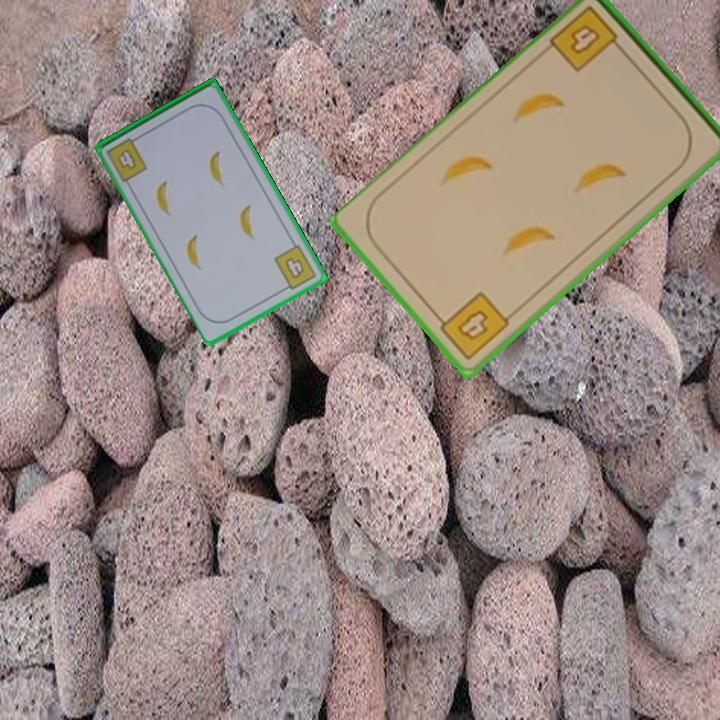4b: (431, 288, 513, 364), (546, 2, 628, 76), (270, 241, 320, 294), (103, 132, 151, 185)
